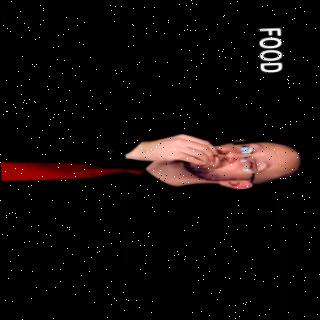Food: (0, 115, 304, 213)
